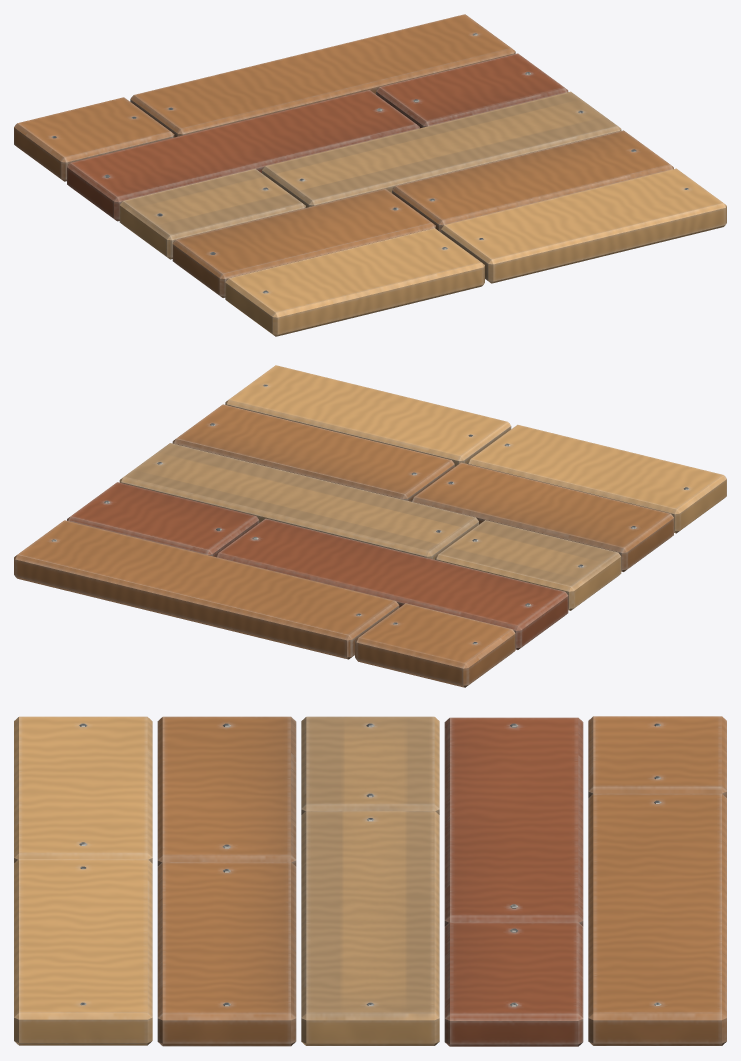
The model's file is floor_tile.glb.
3 renders of one model, top to bottom at view 1: azimuth 30°, elevation 25°; view 2: azimuth 150°, elevation 25°; view 3: azimuth 270°, elevation 25°, orthographic. The views are drawn at different scales.
Parts seen in each view (by area): view 1: SM_FloorTile; view 2: SM_FloorTile; view 3: SM_FloorTile.
Boxes of the visible parts, <box> form: SM_FloorTile: <box>14,14,726,336</box>; SM_FloorTile: <box>14,365,726,687</box>; SM_FloorTile: <box>14,716,726,1046</box>.
Bounding box in the file's own units: 1.99 × 0.1072 × 1.99.
1 material, 1 textured.
